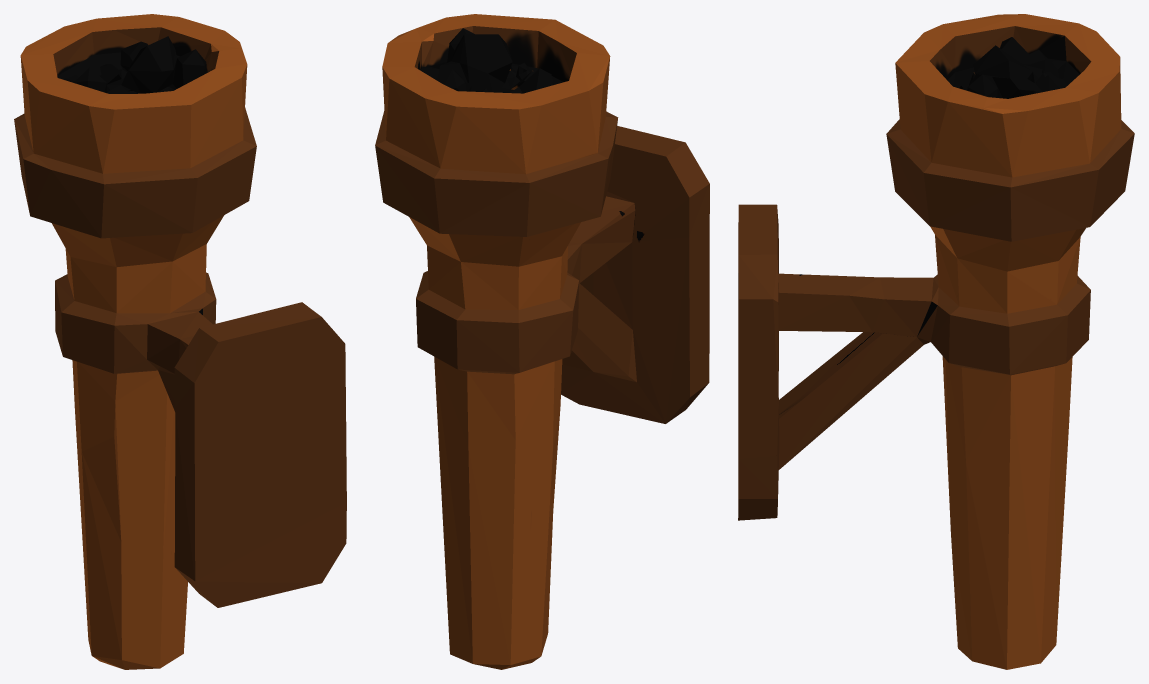
Rendered from Torch.fbx.
3 views of the same model, side by side, from view 1: azimuth 30°, elevation 25°; view 2: azimuth 150°, elevation 25°; view 3: azimuth 270°, elevation 25° (orthographic).
Parts seen in each view (by area): view 1: Torch_Mesh; view 2: Torch_Mesh; view 3: Torch_Mesh.
Boxes of the visible parts, x1,y1,x2,y2 form: Torch_Mesh: [14, 14, 346, 669]; Torch_Mesh: [375, 14, 709, 669]; Torch_Mesh: [738, 14, 1134, 669].
Bounding box in the file's own units: 0.1898 × 0.4998 × 0.2947.
